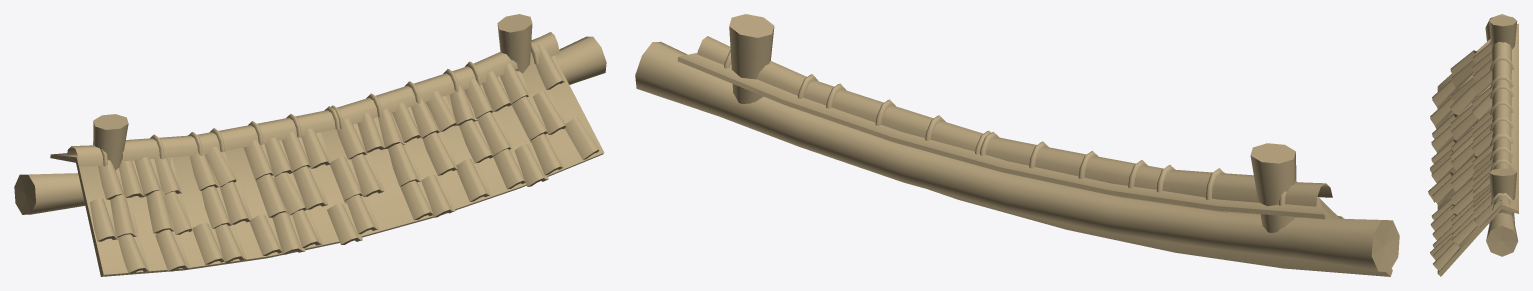
File: Arches-Broken-roof_2.fbx
3 renders of one model, left to right at view 1: azimuth 30°, elevation 25°; view 2: azimuth 150°, elevation 25°; view 3: azimuth 270°, elevation 25°, orthographic. The views are drawn at different scales.
Parts seen in each view (by area): view 1: Arches-Broken-roof; view 2: Arches-Broken-roof; view 3: Arches-Broken-roof.
Part boxes in pixels (x1,y1,x2,y2): Arches-Broken-roof: [14, 14, 606, 276]; Arches-Broken-roof: [635, 14, 1399, 276]; Arches-Broken-roof: [1428, 14, 1518, 276].
Size of the model in its own units: 1166 by 271 by 207.
